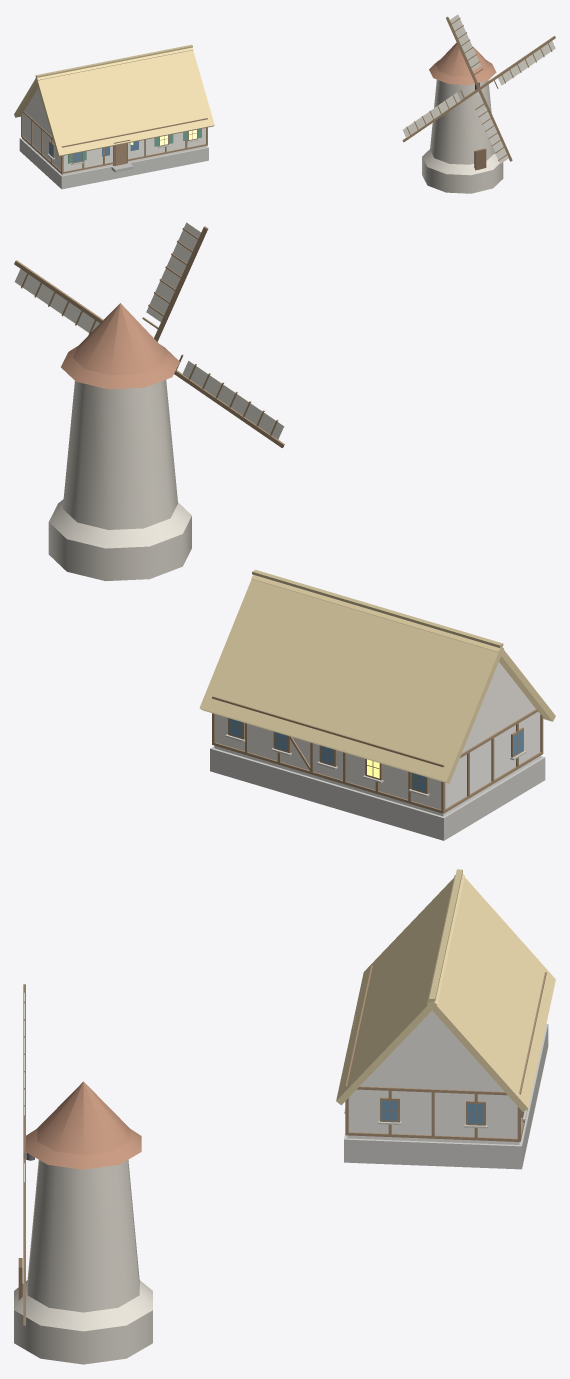
File: struct_13_7.glb
3 renders of one model, top to bottom at view 1: azimuth 30°, elevation 25°; view 2: azimuth 150°, elevation 25°; view 3: azimuth 270°, elevation 25°, orthographic. The views are drawn at different scales.
Visible parts, largest first — view 1: HousesNear, Landmarks; view 2: HousesNear, Landmarks; view 3: HousesNear, Landmarks.
Boxes of the visible parts, box(x1,y1,x2,y2) form: HousesNear: box(14, 44, 214, 189); Landmarks: box(402, 14, 555, 193); HousesNear: box(199, 569, 555, 840); Landmarks: box(14, 222, 284, 581); HousesNear: box(336, 869, 555, 1169); Landmarks: box(14, 984, 152, 1364).
Size of the model in its own units: 40.87 by 17.48 by 26.67.
